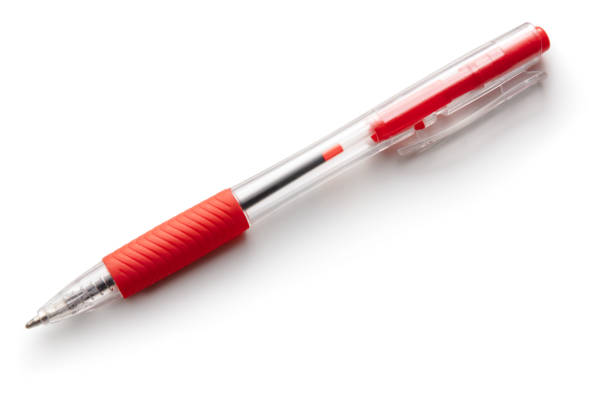pen: (15, 12, 560, 339)
